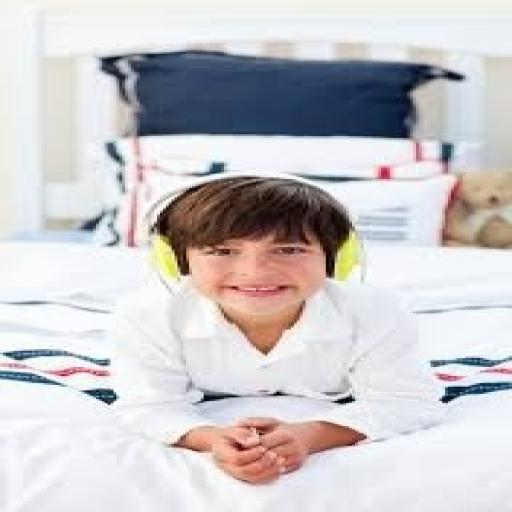listening_to_music: (108, 170, 448, 487)
